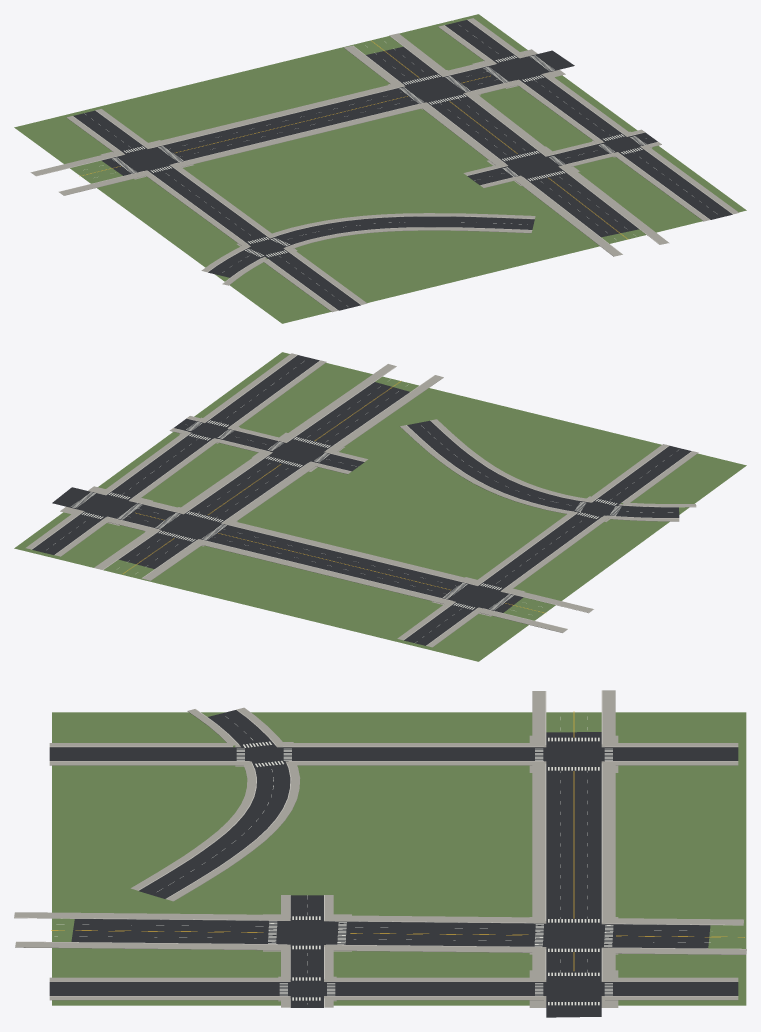
File: Ground_2_6.fbx
3 views of the same model, one above another, from view 1: azimuth 30°, elevation 25°; view 2: azimuth 150°, elevation 25°; view 3: azimuth 270°, elevation 25° (orthographic). The views are drawn at different scales.
Parts seen in each view (by area): view 1: Ground_2_6; view 2: Ground_2_6; view 3: Ground_2_6.
Boxes of the visible parts, x1,y1,x2,y2 form: Ground_2_6: (14, 14, 746, 323); Ground_2_6: (14, 352, 746, 661); Ground_2_6: (14, 690, 746, 1017).
Bounding box in the file's own units: 279 × 0.14 × 264.
